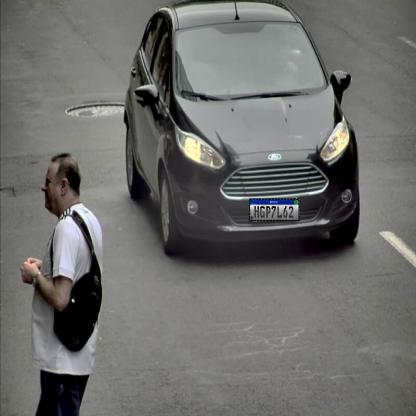PlacaM: (249, 198, 300, 221)
